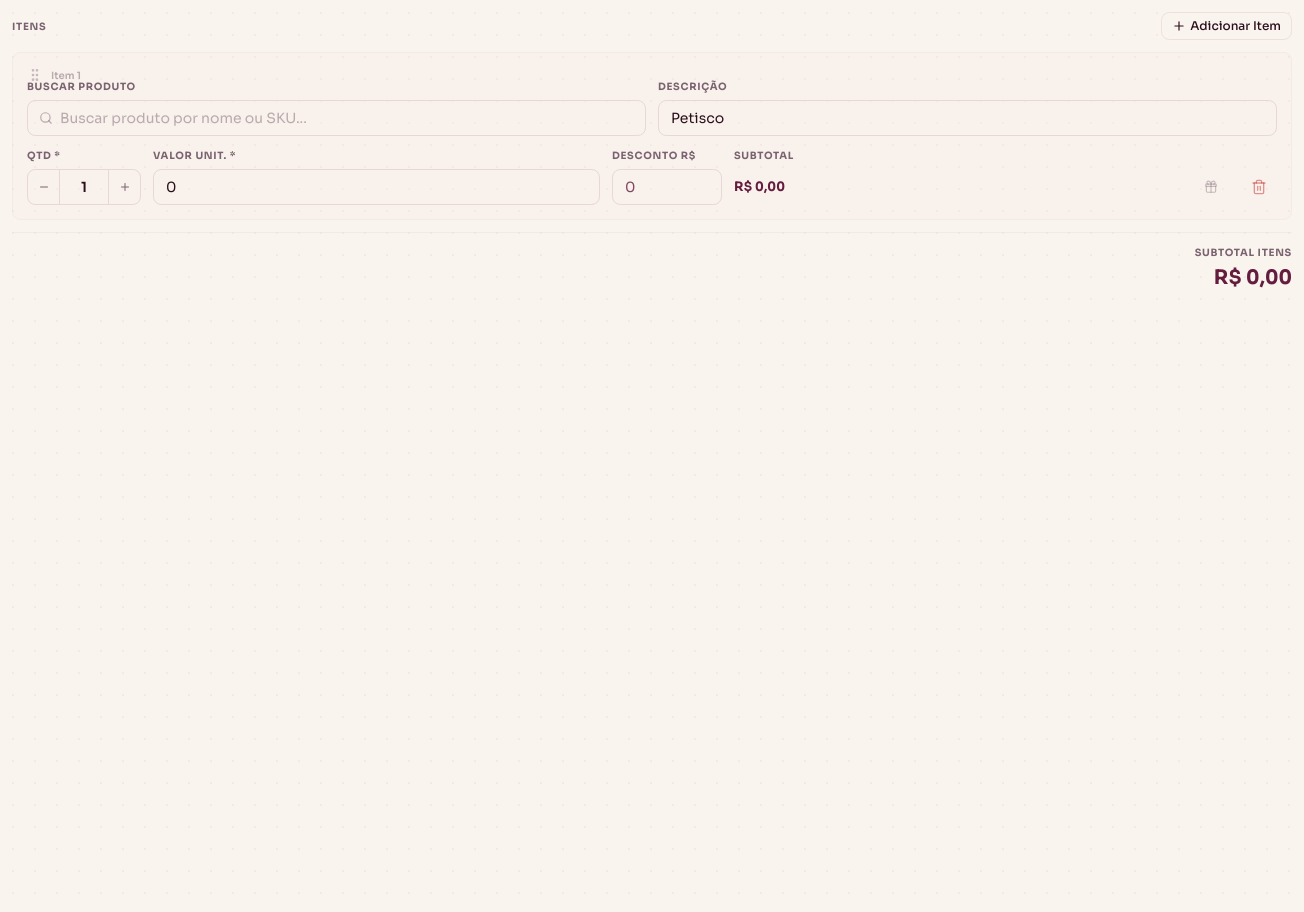
Test case: ItensTable — brinde (specs/vendas/spec-v5.md) › escolher produto em item brinde não muda o valor; desmarcar devolve o preço do produto
The width and height of the screenshot is (1304, 912).
Click the button titled "brinde" at point(1211, 187), box left=1193, top=169, right=1229, bottom=205
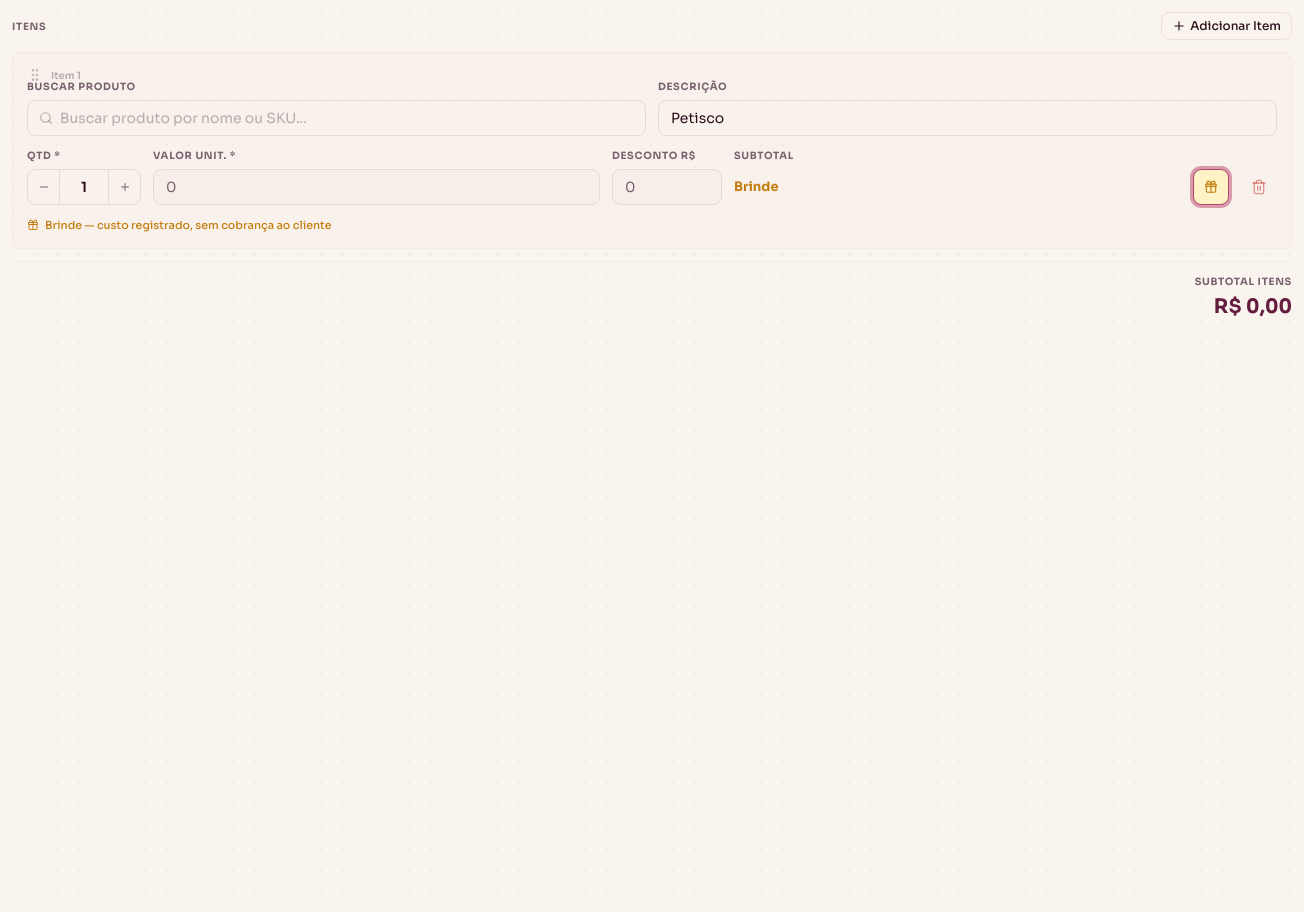
Type "Bif" into the field with placeholder "Buscar produto por nome ou SKU..." at point(336, 118), box left=27, top=100, right=646, bottom=136
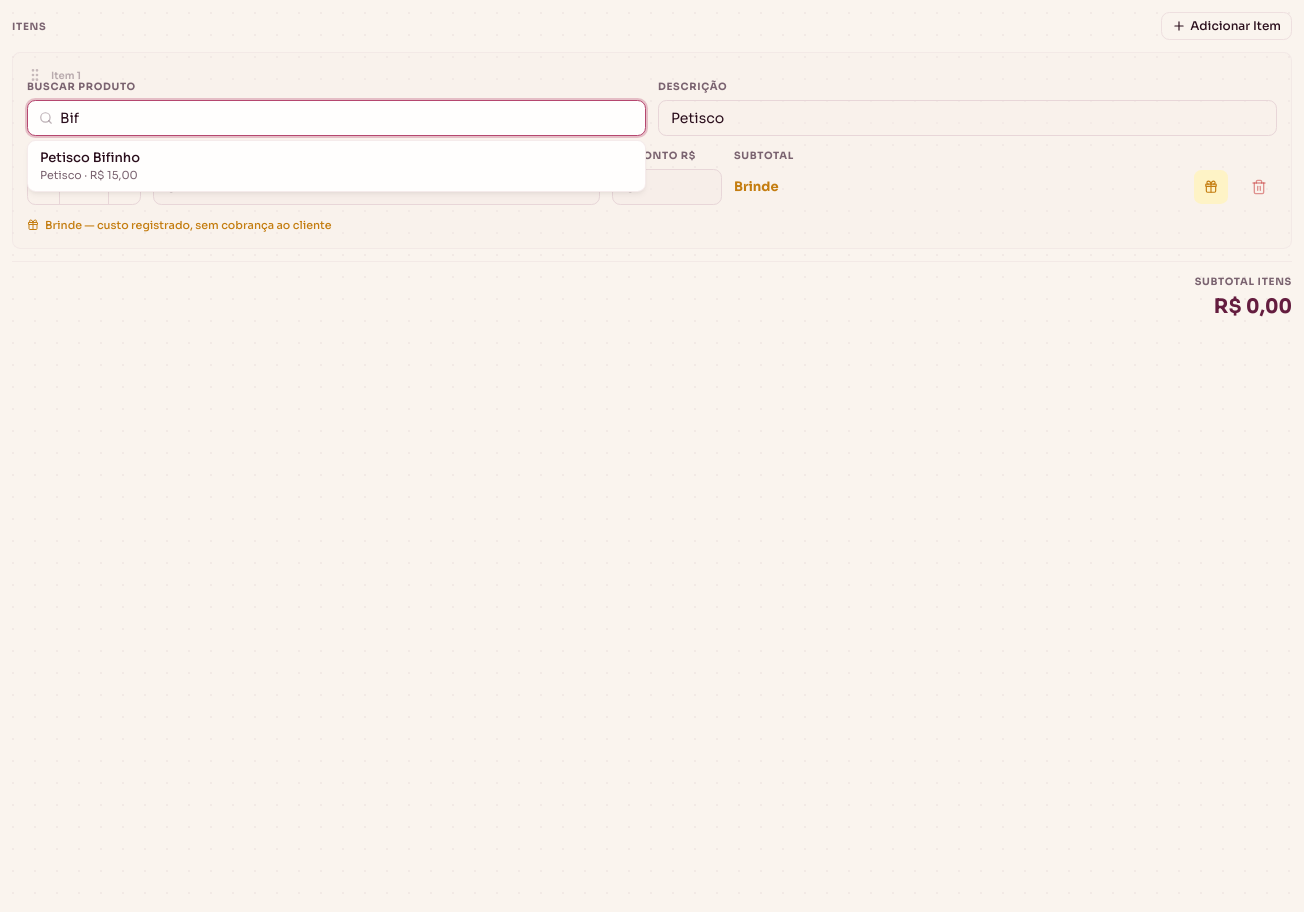
Click the text "Petisco Bifinho" at point(90, 158), box left=40, top=149, right=140, bottom=166
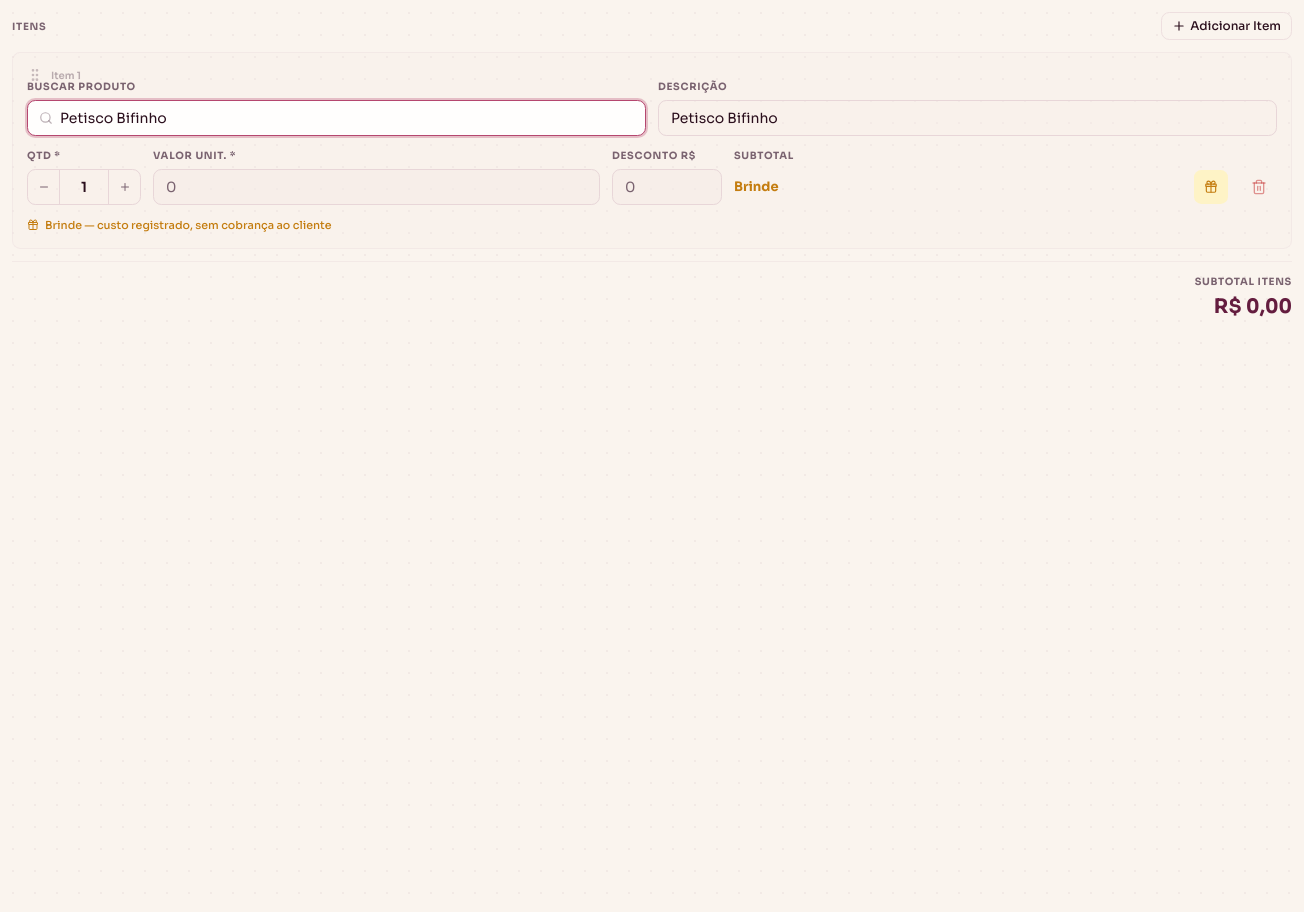
Expected: the number field below "Valor Unit. *" holds "0", left=153, top=169, right=600, bottom=205
Click the button titled "brinde" at point(1211, 187), box left=1193, top=169, right=1229, bottom=205
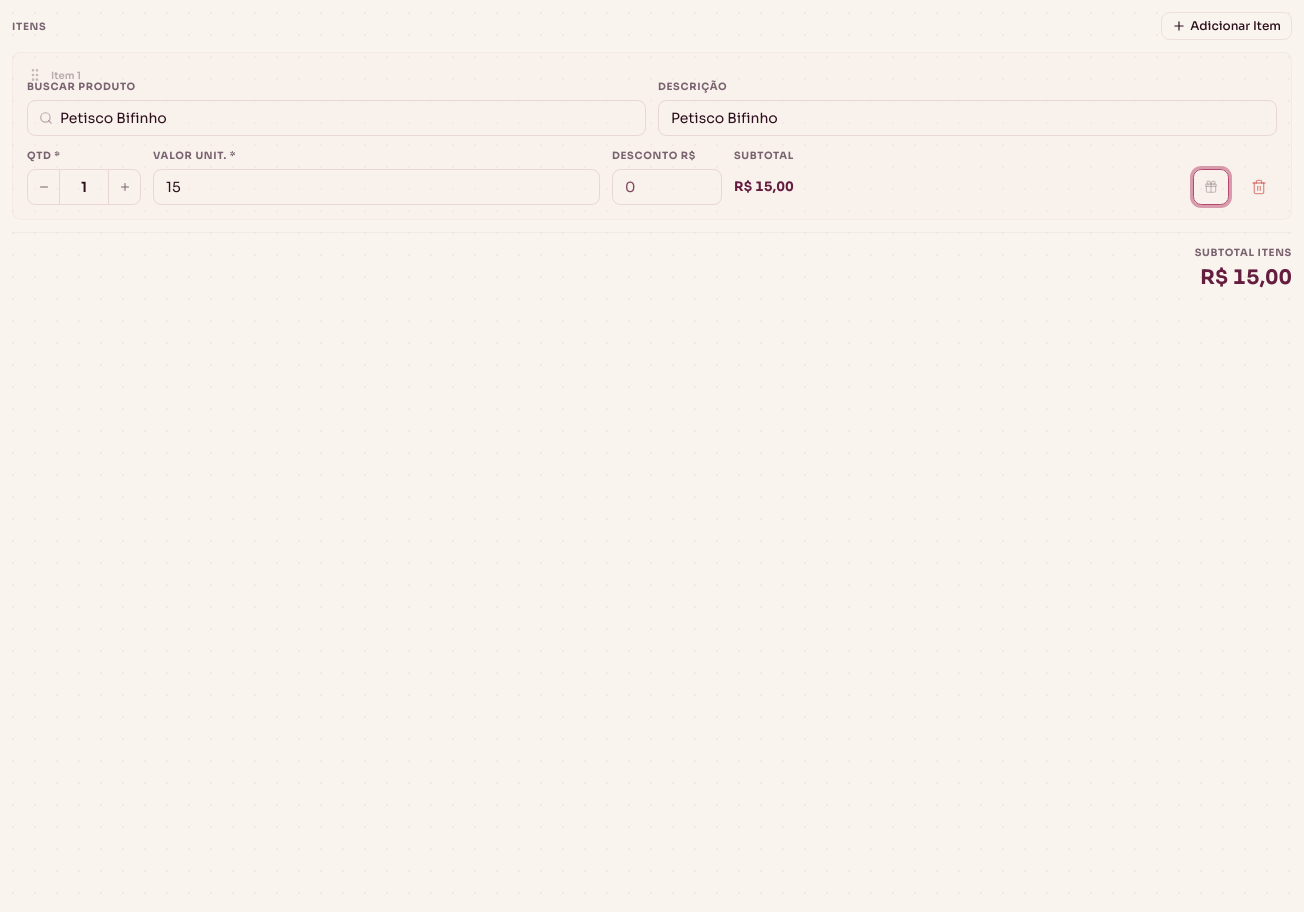
Now the number field below "Valor Unit. *" holds "15", box left=153, top=169, right=600, bottom=205
